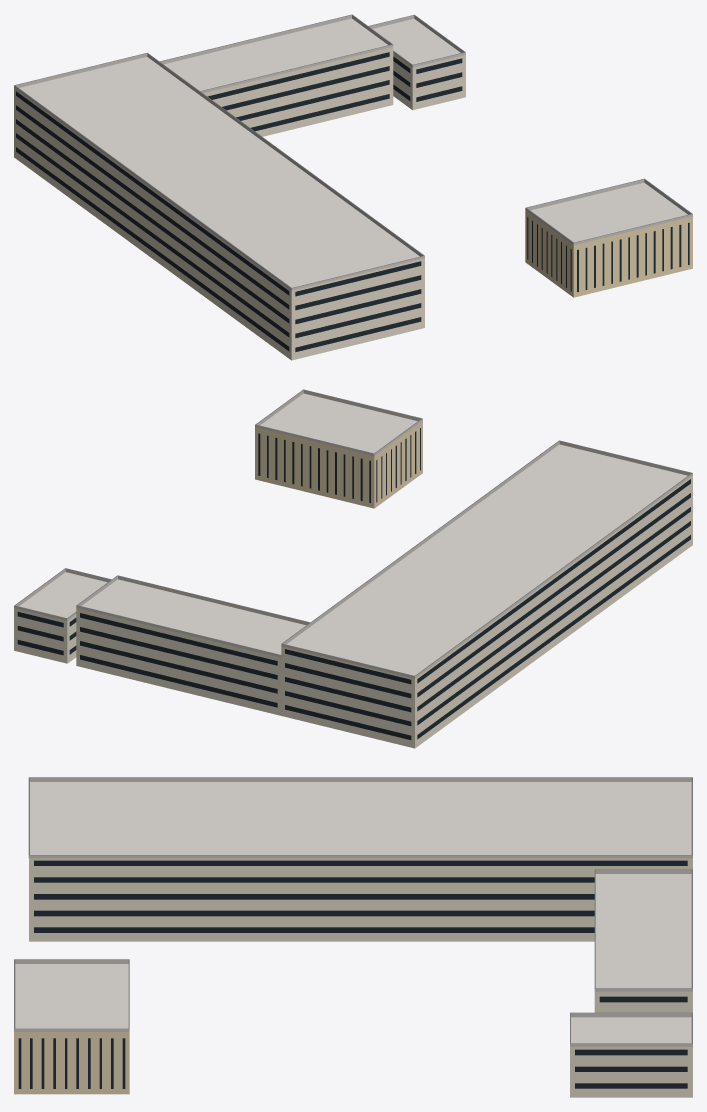
Rendered from far_hs.glb.
3 renders of one model, top to bottom at view 1: azimuth 30°, elevation 25°; view 2: azimuth 150°, elevation 25°; view 3: azimuth 270°, elevation 25°, orthographic. The views are drawn at different scales.
Parts seen in each view (by area): view 1: far_hs; view 2: far_hs; view 3: far_hs.
Part boxes in pixels (x1=…): far_hs: x1=14, y1=14, x2=692, y2=360; far_hs: x1=14, y1=389, x2=692, y2=748; far_hs: x1=14, y1=777, x2=692, y2=1097.
Size of the model in its own units: 108 by 18.6 by 133.
